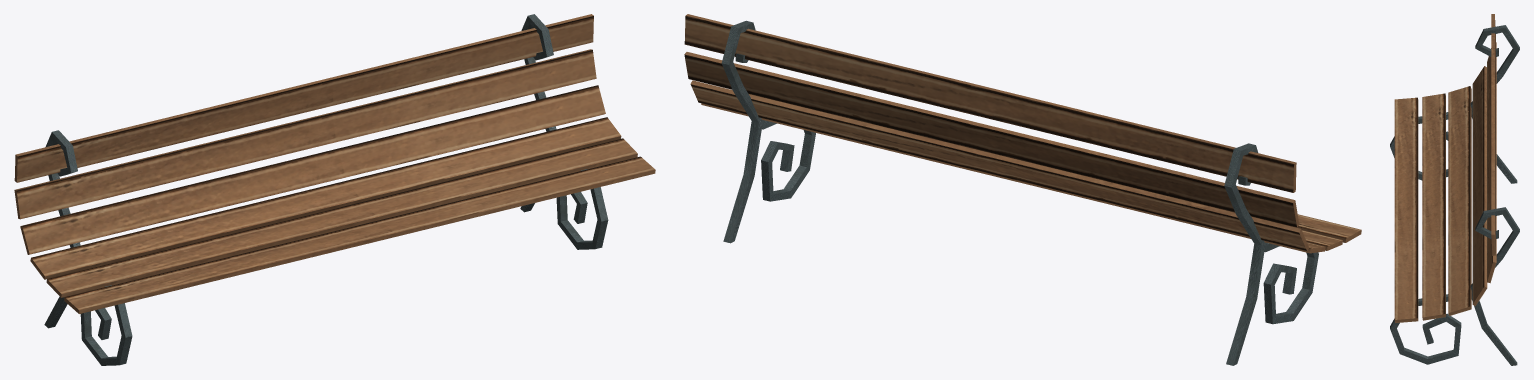
Rendered from bench.glb.
3 renders of one model, left to right at view 1: azimuth 30°, elevation 25°; view 2: azimuth 150°, elevation 25°; view 3: azimuth 270°, elevation 25°, orthographic. The views are drawn at different scales.
Visible parts, largest first — view 1: stktex_generic_WoodA.png__, stk_metalRustedBlue_a.png__; view 2: stktex_generic_WoodA.png__, stk_metalRustedBlue_a.png__; view 3: stktex_generic_WoodA.png__, stk_metalRustedBlue_a.png__.
Part boxes in pixels (box(x1,y1,x2,y2)): stktex_generic_WoodA.png__: box(14, 14, 655, 313); stk_metalRustedBlue_a.png__: box(44, 14, 608, 365); stktex_generic_WoodA.png__: box(684, 14, 1361, 253); stk_metalRustedBlue_a.png__: box(721, 20, 1318, 365); stktex_generic_WoodA.png__: box(1394, 14, 1496, 322); stk_metalRustedBlue_a.png__: box(1390, 25, 1519, 365).
Bounding box in the file's own units: 5.47 × 1.81 × 1.36.
Materials: 2 (2 with a texture image).
